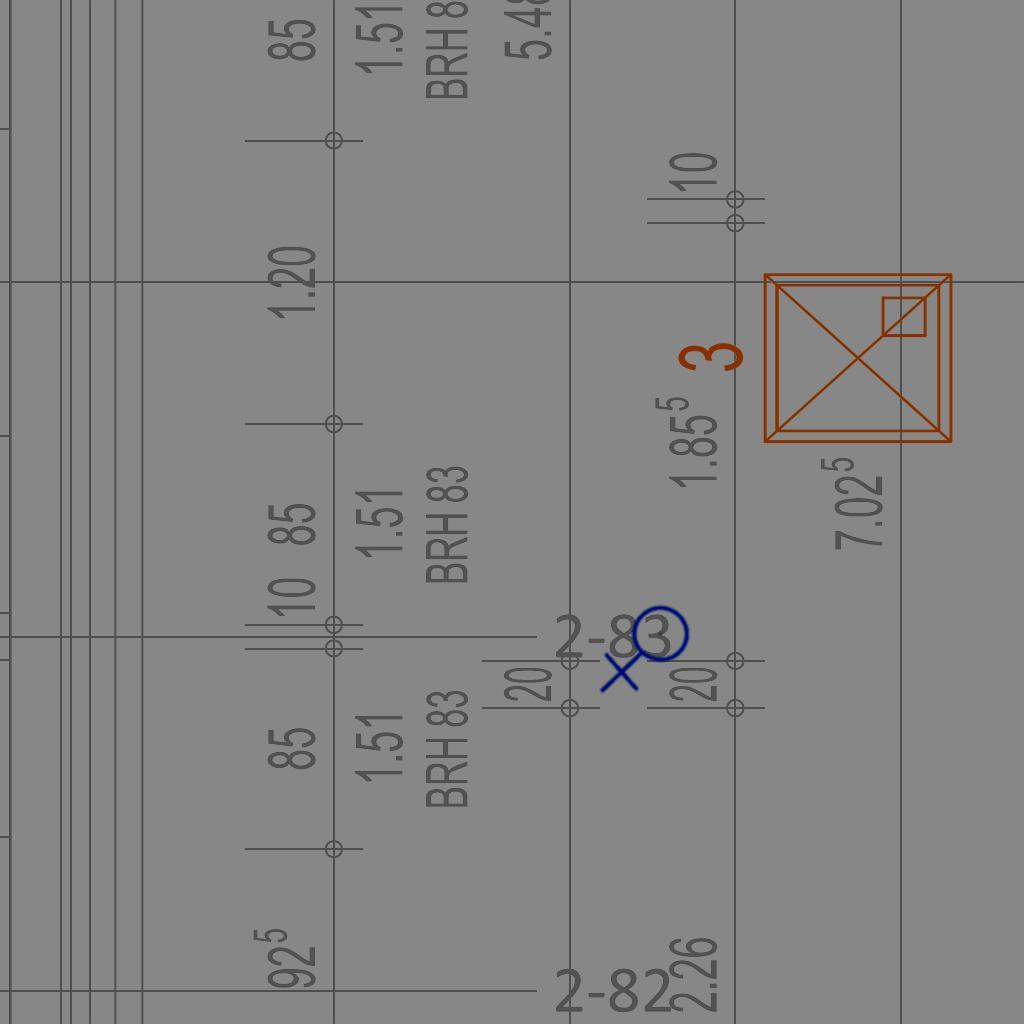Einbaudownlights_LED_Konferenzraeume: (667, 258, 967, 466)
Elektroanschluss_allgemein_230V_Geraeteanschlussdose_230V: (599, 604, 698, 698)
